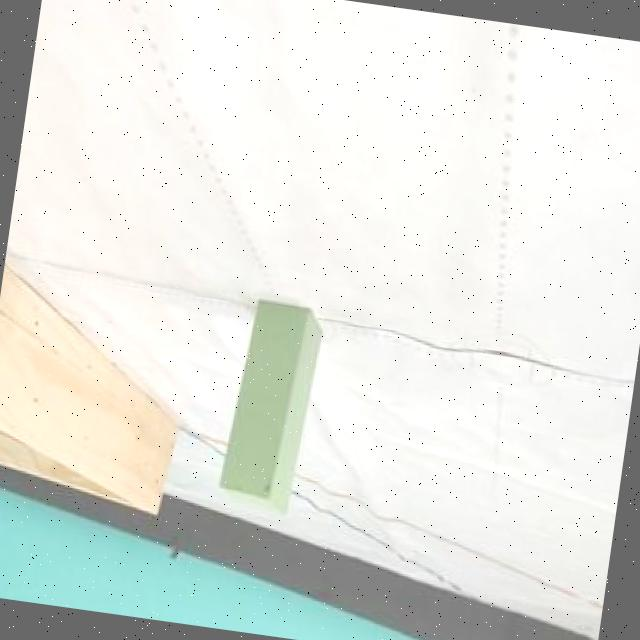greenbox: (218, 298, 324, 521)
